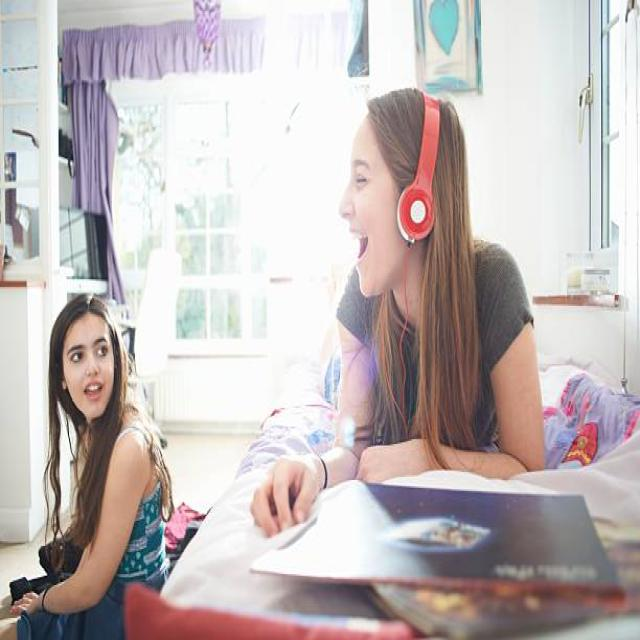Headphone: (395, 92, 440, 247)
